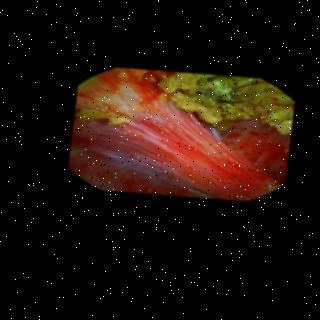stone: (159, 74, 292, 140), (75, 109, 128, 125)
tissue: (71, 73, 287, 200)
